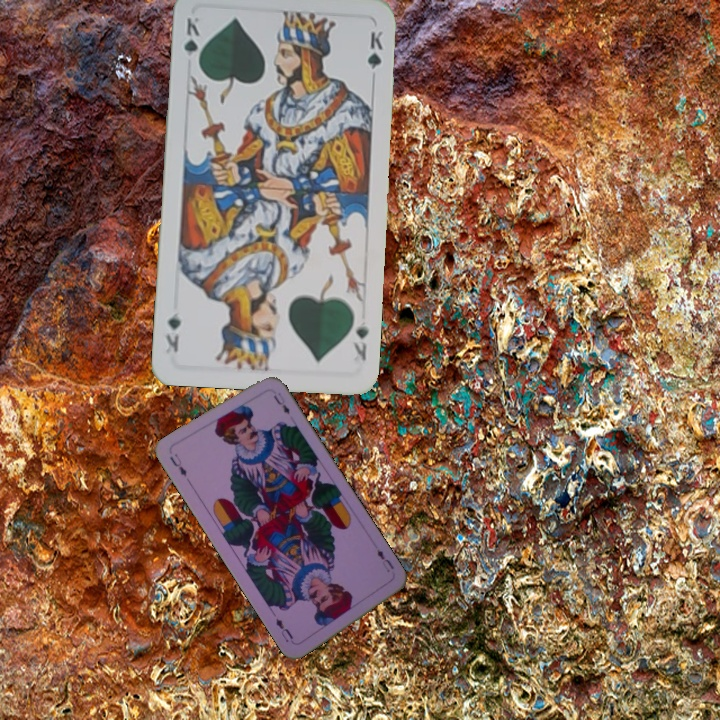EU: (166, 449, 189, 480), (373, 545, 397, 572)
GK: (179, 13, 202, 70), (349, 321, 371, 364)
